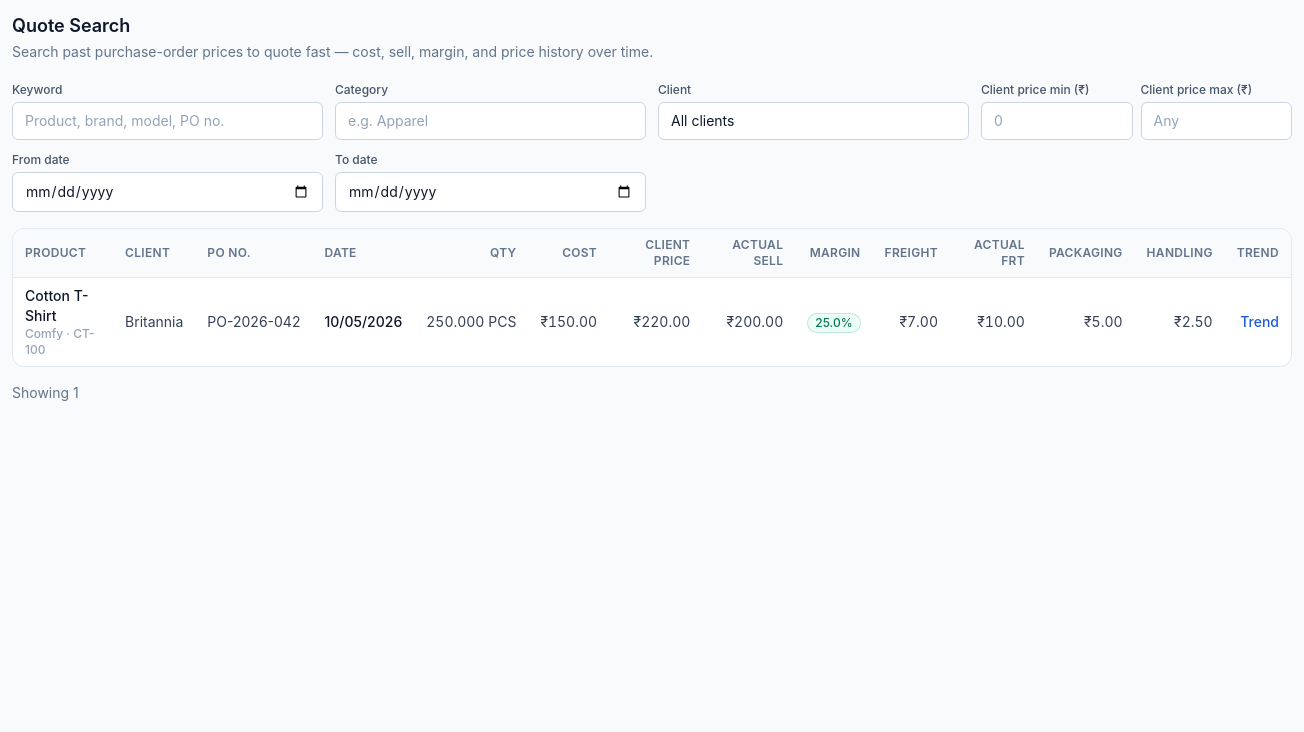
QuoteSearchPage › opens the price-history trend for a product
The image size is (1304, 732).
Expected: the text "Cotton T-Shirt" is shown, [25,287,88,324]
Step 1. Click the button "Trend" → (1260,322), box [1240,312,1279,332]
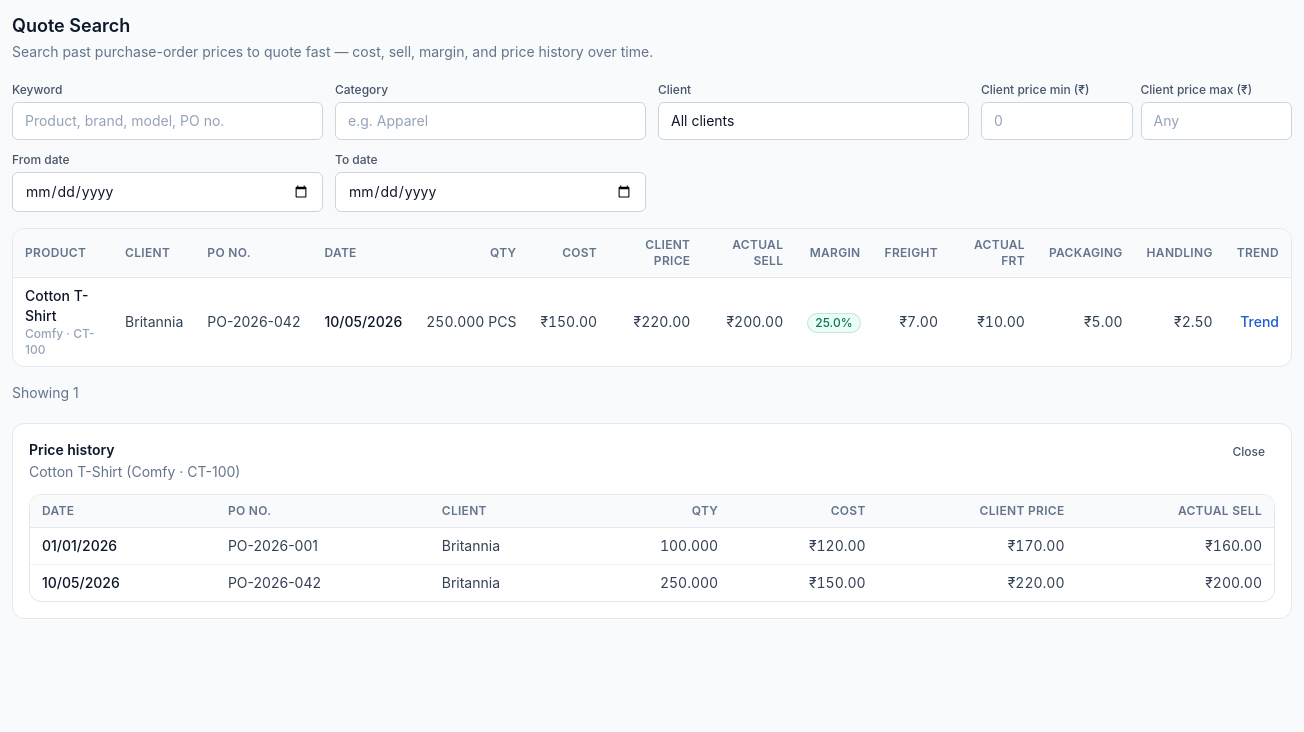
Expected: the heading "Price history" is shown, [29,441,115,458]
Expected: the text "PO-2026-001" is shown, [216,528,430,564]
Expected: the text "₹160.00" is shown, [1076,528,1274,564]
